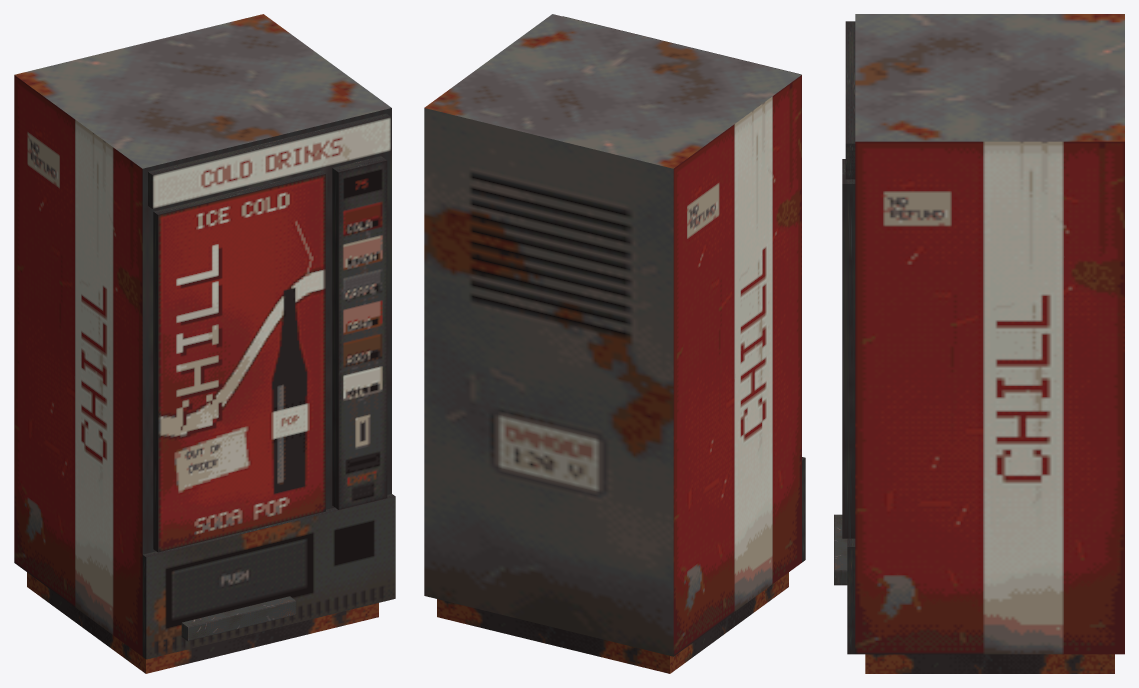
File: vending_machine.obj
3 renders of one model, left to right at view 1: azimuth 30°, elevation 25°; view 2: azimuth 150°, elevation 25°; view 3: azimuth 270°, elevation 25°, orthographic. The views are drawn at different scales.
Visible parts, largest first — view 1: vending_machine; view 2: vending_machine; view 3: vending_machine.
Part boxes in pixels (x1,y1,x2,y2): vending_machine: [14, 14, 395, 673]; vending_machine: [424, 14, 805, 673]; vending_machine: [834, 14, 1124, 673].
Bounding box in the file's own units: 0.92 × 1.8 × 0.885.
Materials: 2 (2 with a texture image).
